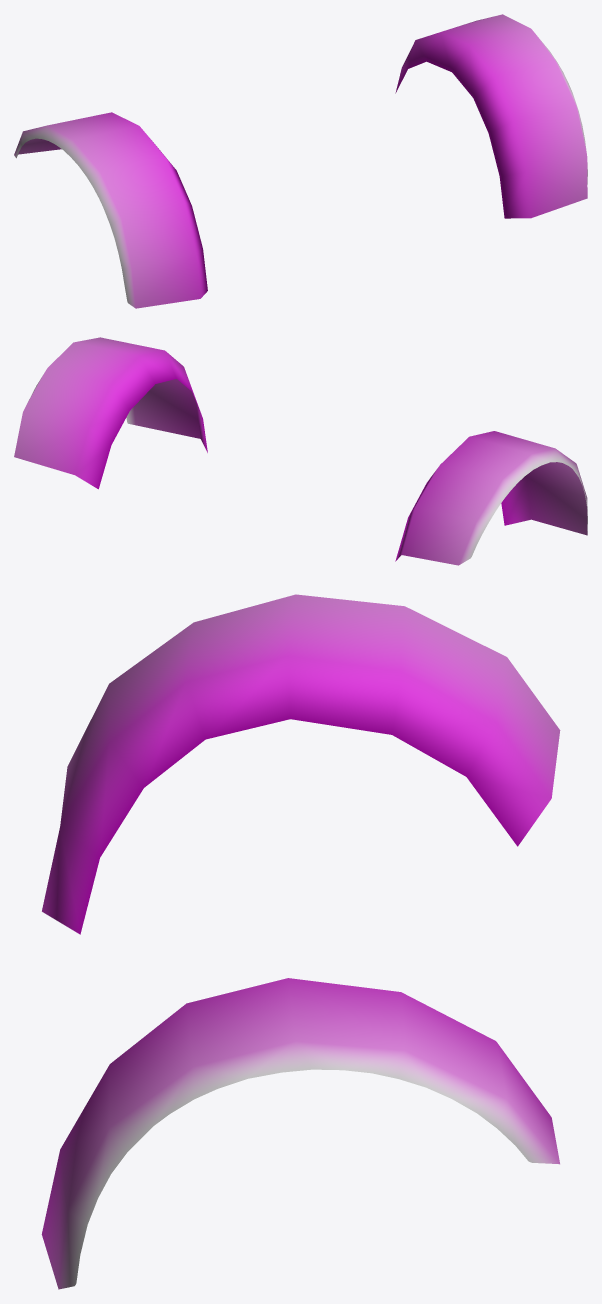
Rendered from Car_Mini_CountrymanJCW_2017_FendersChassisR_SetA.fbx.
The picture shows the model from 3 angles, top to bottom: view 1: azimuth 30°, elevation 25°; view 2: azimuth 150°, elevation 25°; view 3: azimuth 270°, elevation 25°; orthographic projection. The views are drawn at different scales.
Visible parts, largest first — view 1: FendersChassisR 6; view 2: FendersChassisR 6; view 3: FendersChassisR 6.
Part boxes in pixels (bbox=[...]): FendersChassisR 6: bbox=[14, 14, 587, 308]; FendersChassisR 6: bbox=[14, 337, 587, 565]; FendersChassisR 6: bbox=[41, 594, 560, 1289].
Size of the model in its own units: 1.77 by 0.4704 by 0.8424.
